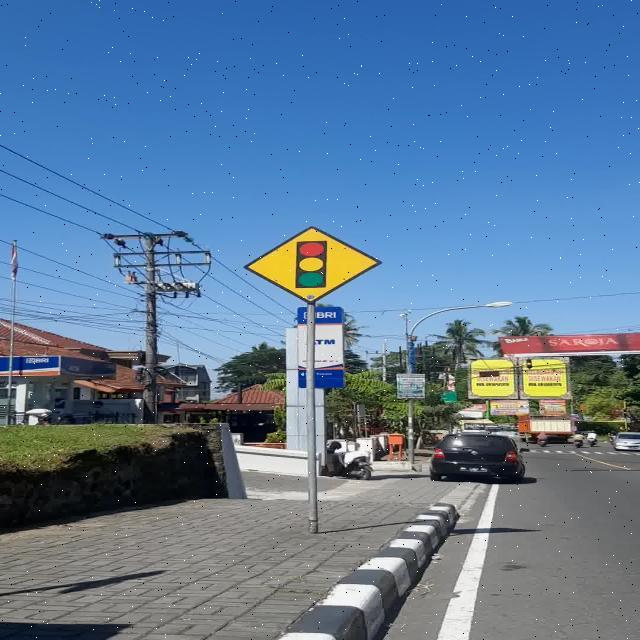Lampu Lalu Lintas: (244, 226, 382, 304)
